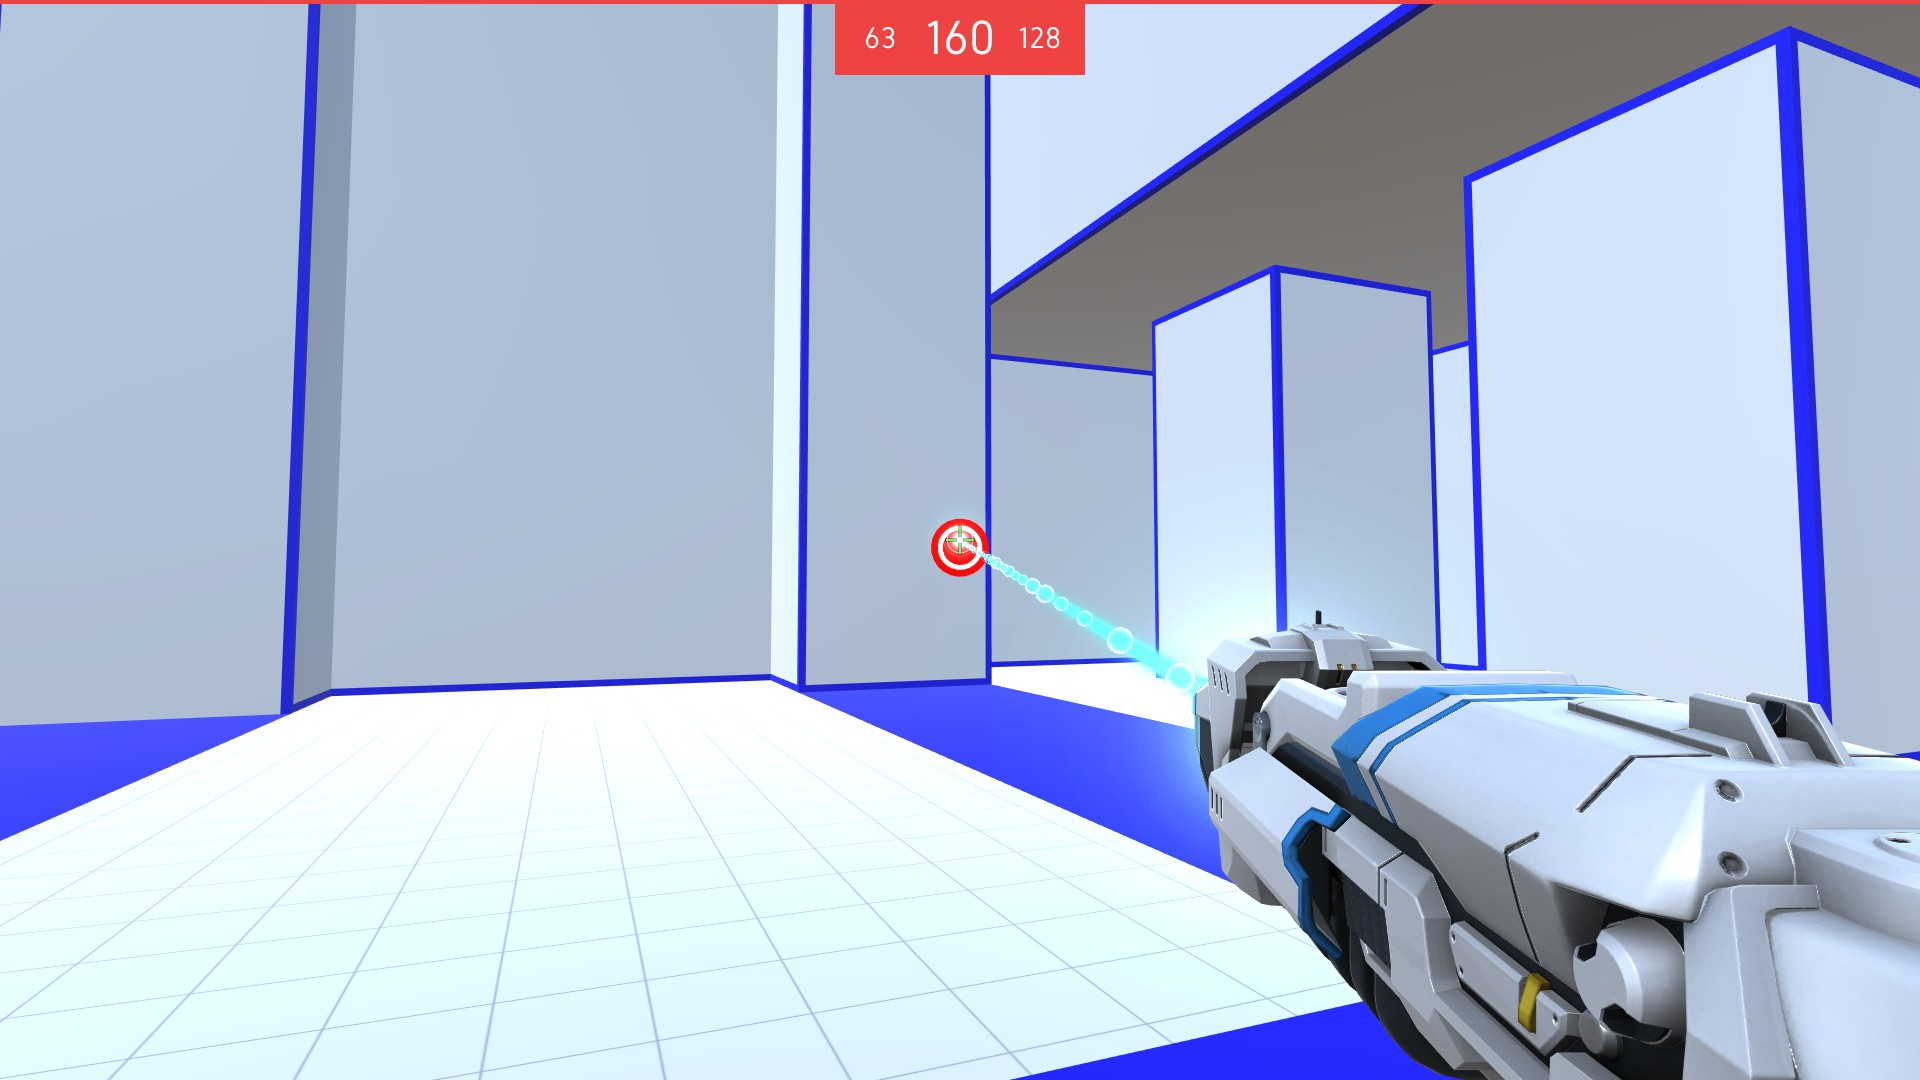target: (927, 516, 996, 578)
